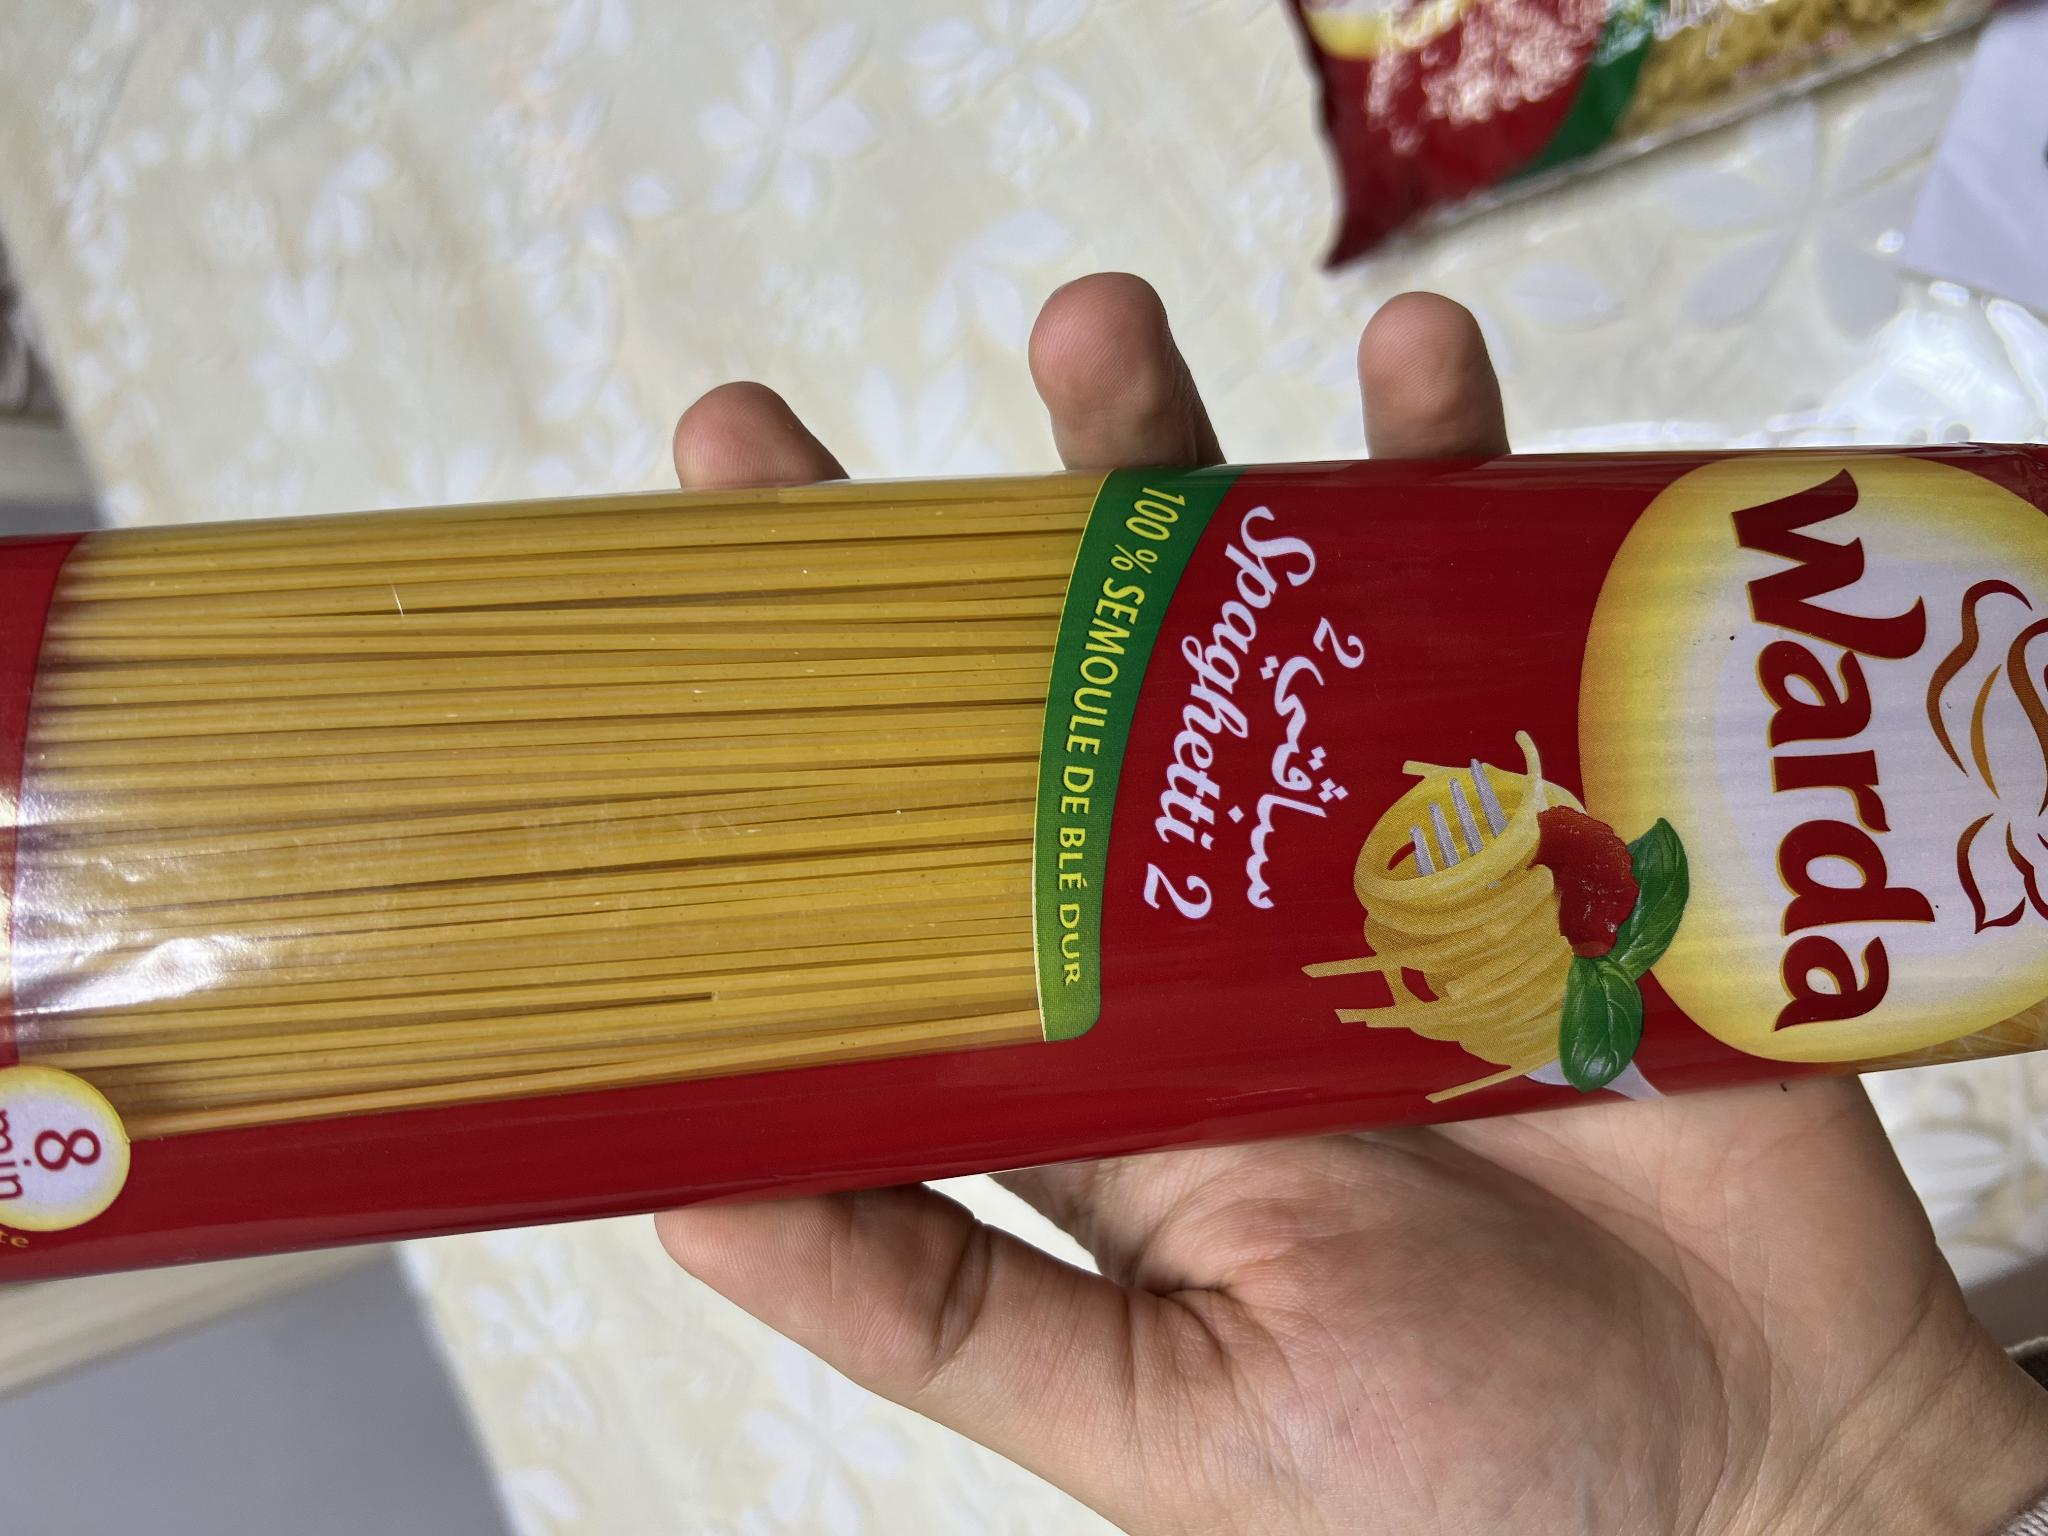Spaghetti: (3, 447, 2046, 1283)
